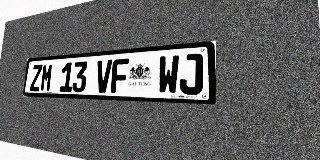1: (59, 62, 74, 92)
3: (72, 61, 88, 92)
F: (111, 58, 129, 93)
J: (179, 53, 203, 95)
M: (40, 64, 53, 92)
V: (95, 59, 112, 93)
W: (157, 55, 179, 94)
Z: (30, 64, 43, 91)
